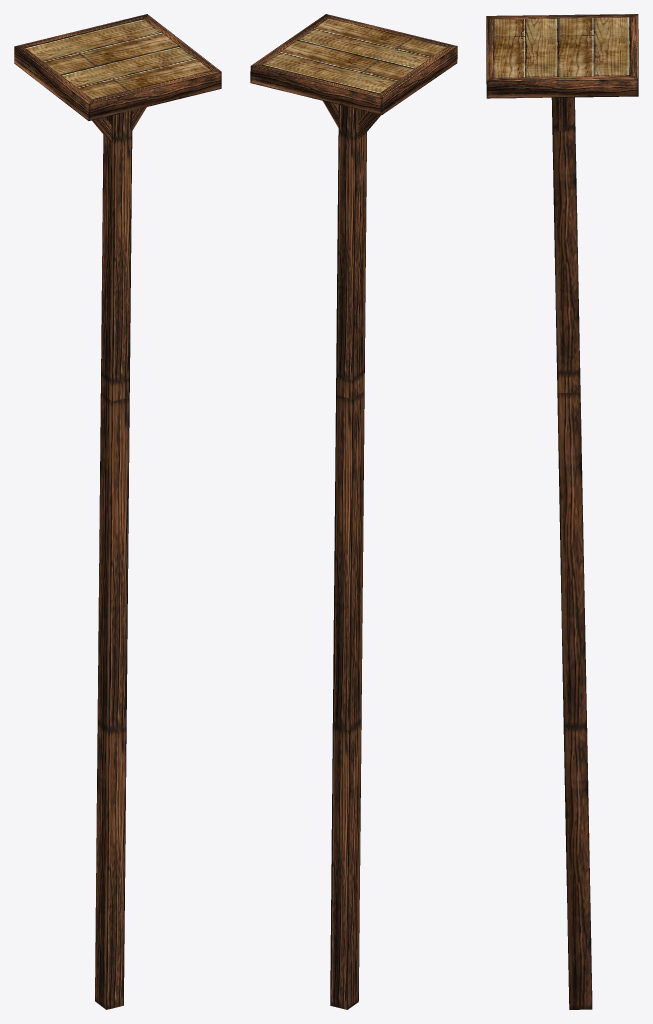
The model's file is INST_WH_PLATBEAM_01.fbx.
The picture shows the model from 3 angles, left to right: view 1: azimuth 30°, elevation 25°; view 2: azimuth 150°, elevation 25°; view 3: azimuth 270°, elevation 25°; orthographic projection.
Parts seen in each view (by area): view 1: INST_WH_PLATBEAM_01; view 2: INST_WH_PLATBEAM_01; view 3: INST_WH_PLATBEAM_01.
Boxes of the visible parts, x1,y1,x2,y2 form: INST_WH_PLATBEAM_01: (14, 14, 221, 1009); INST_WH_PLATBEAM_01: (250, 14, 457, 1009); INST_WH_PLATBEAM_01: (486, 14, 638, 1009).
Bounding box in the file's own units: 15995 × 108777 × 15641.
Materials: 2 (2 with a texture image).
